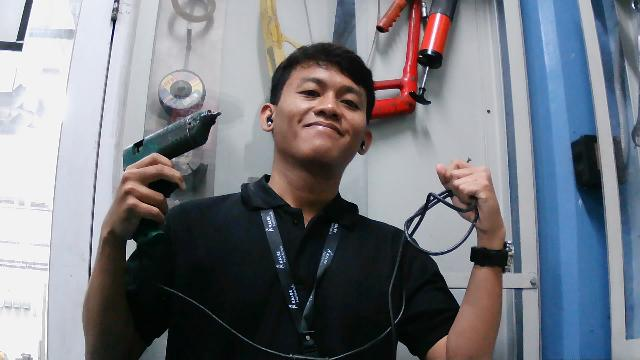gun_lem: (110, 104, 227, 254)
